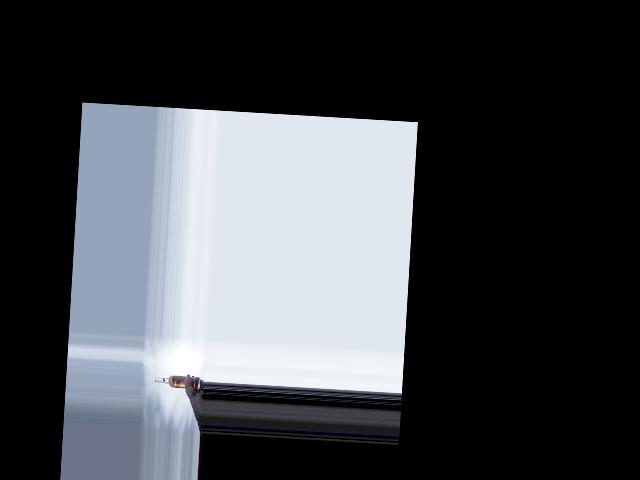beer: (154, 375, 200, 389)
